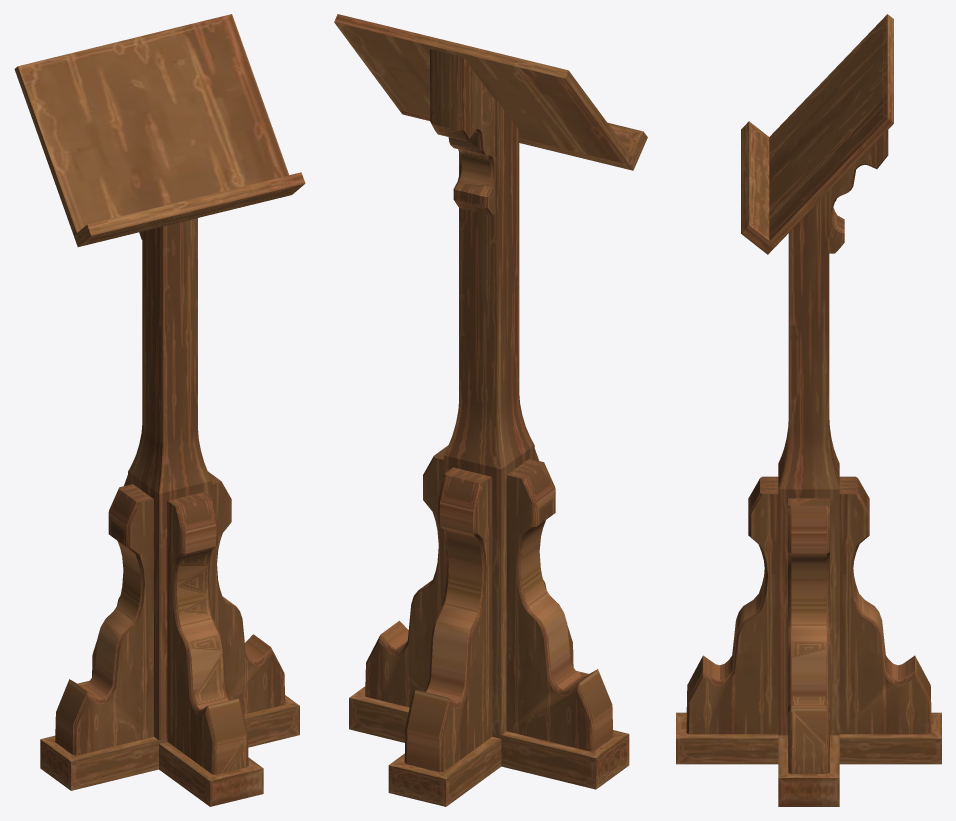
Rendered from BookStand.glb.
3 renders of one model, left to right at view 1: azimuth 30°, elevation 25°; view 2: azimuth 150°, elevation 25°; view 3: azimuth 270°, elevation 25°, orthographic. The views are drawn at different scales.
Visible parts, largest first — view 1: BookStand; view 2: BookStand; view 3: BookStand.
Part boxes in pixels (x1,y1,x2,y2): BookStand: (14, 14, 305, 806); BookStand: (334, 14, 647, 806); BookStand: (676, 14, 941, 806).
Size of the model in its own units: 0.5071 by 1.45 by 0.5112.
1 material, 1 textured.
